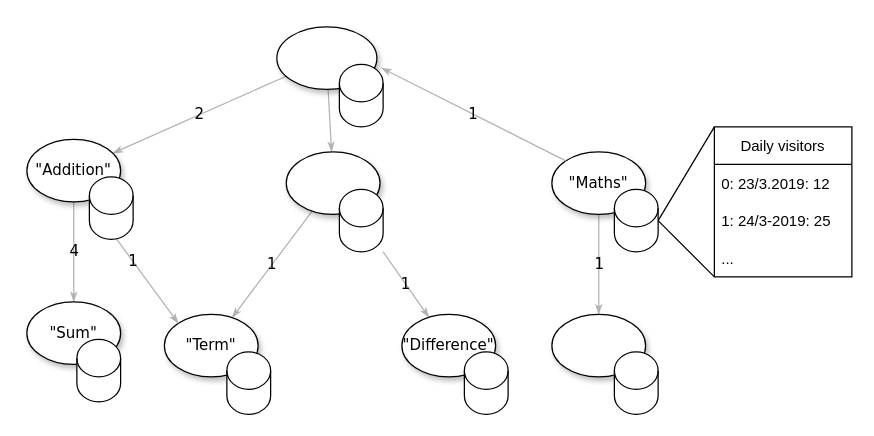
The diagram is 874 pixels wide and 436 high, and some of its shapes have lost their labels. The shapes that lost their labels are listed below. From the top down, each one's centre as x and y in pixels, then its label:
point 327,59: "Arithmetic"
point 334,184: "Subtraction"
point 599,347: "Calculus"
